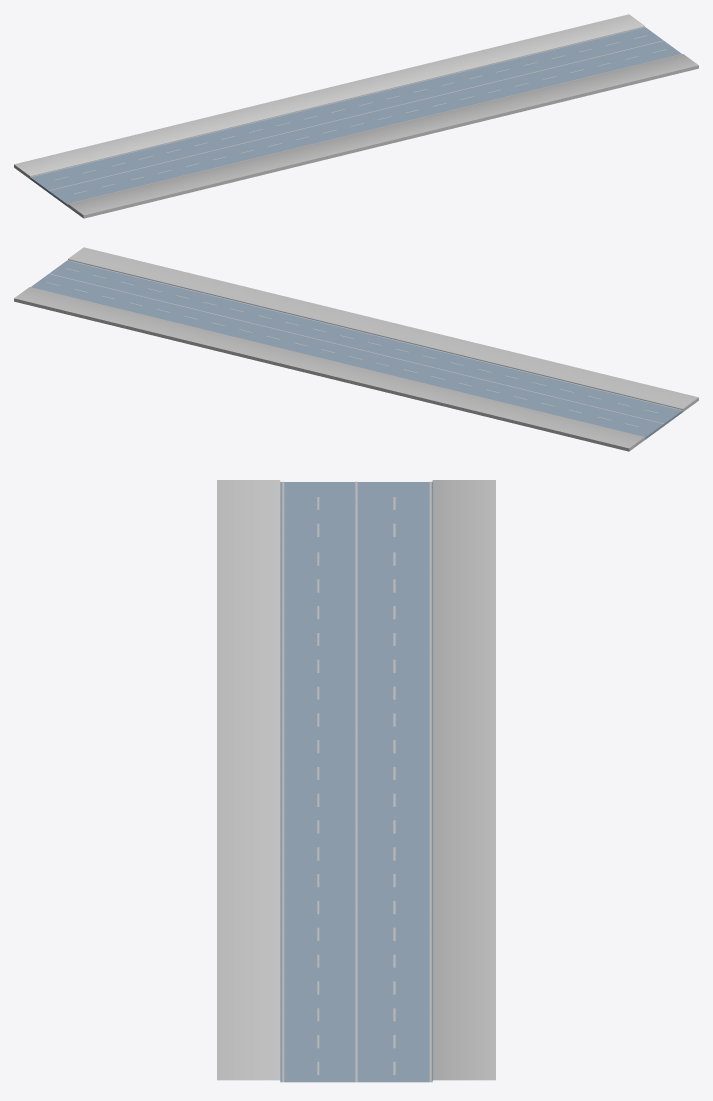
File: Road_017.fbx
The picture shows the model from 3 angles, top to bottom: view 1: azimuth 30°, elevation 25°; view 2: azimuth 150°, elevation 25°; view 3: azimuth 270°, elevation 25°; orthographic projection. The views are drawn at different scales.
Visible parts, largest first — view 1: Road_017; view 2: Road_017; view 3: Road_017.
Part boxes in pixels (<box>): Road_017: <box>14,14,698,218</box>; Road_017: <box>14,247,698,451</box>; Road_017: <box>217,480,495,1082</box>.
Size of the model in its own units: 11200 by 56.17 by 2202.
